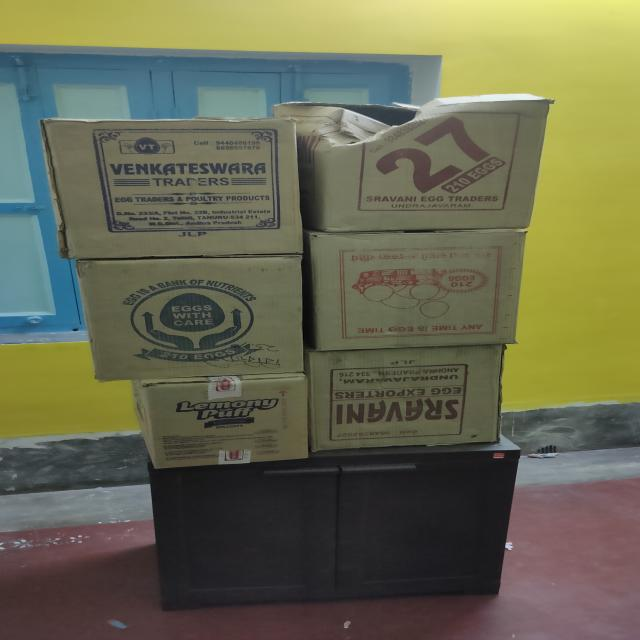tear: (238, 96, 479, 161)
